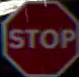Stop: (2, 0, 78, 76)
